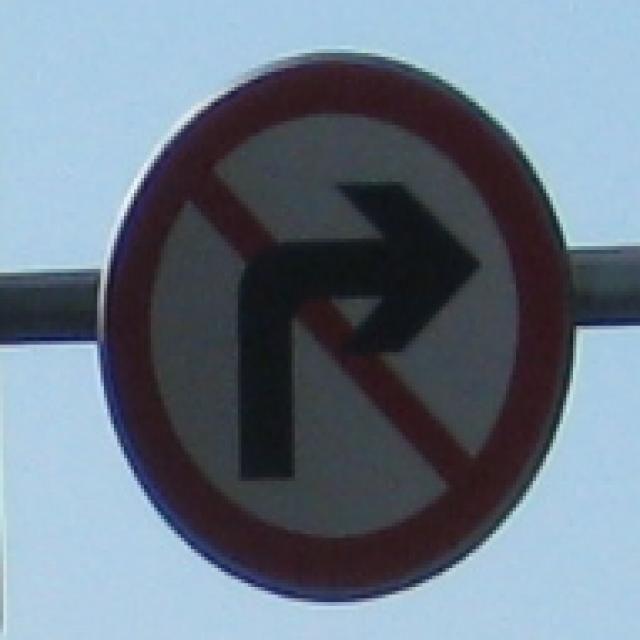Not that Direction: (94, 51, 579, 608)
